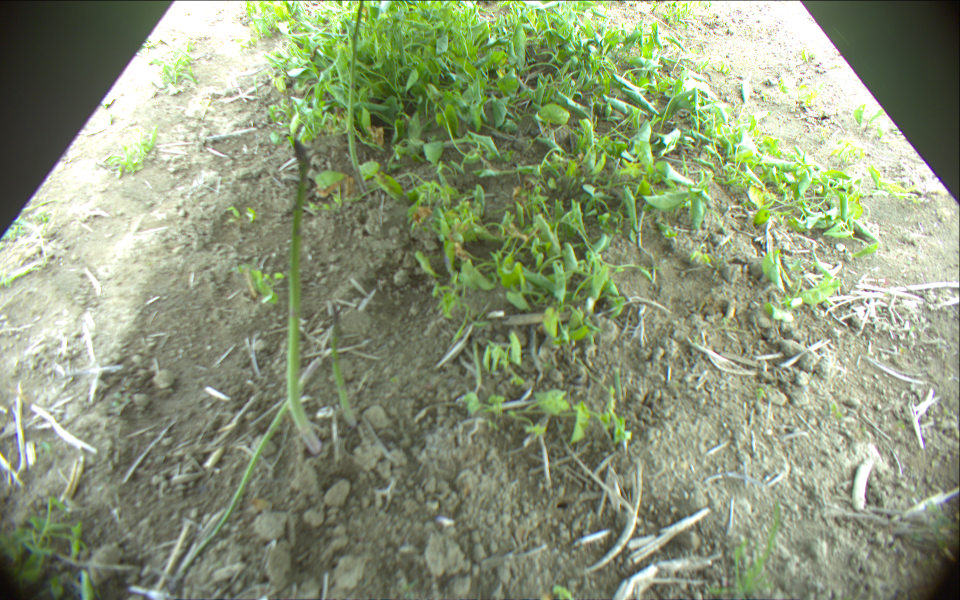aspa: (175, 356, 326, 585), (286, 139, 323, 455), (345, 1, 371, 196), (328, 305, 355, 427)
